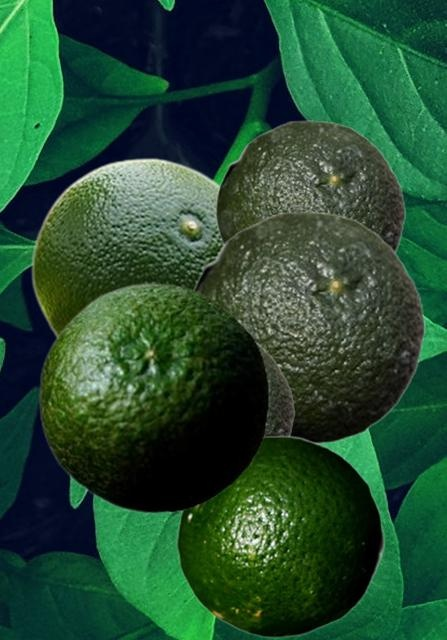calamansi: (191, 211, 425, 443), (38, 282, 268, 513), (176, 435, 384, 637), (30, 157, 221, 337), (215, 120, 405, 253), (257, 341, 294, 434)
